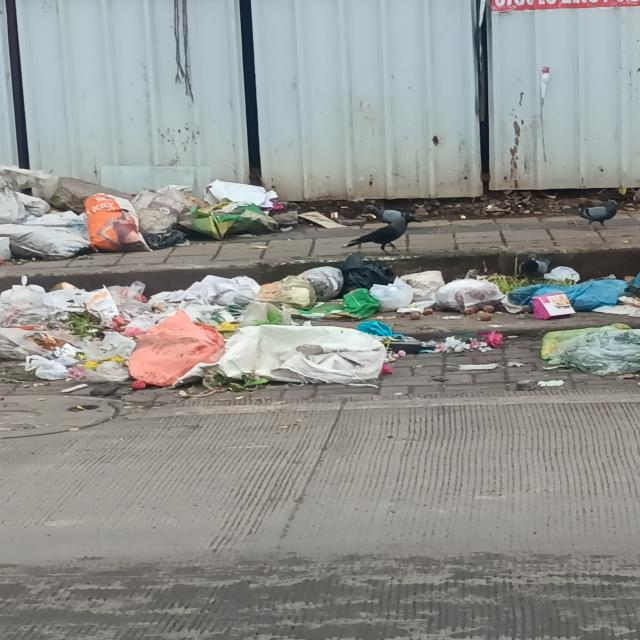garbage: (13, 259, 640, 405), (6, 160, 292, 254)
